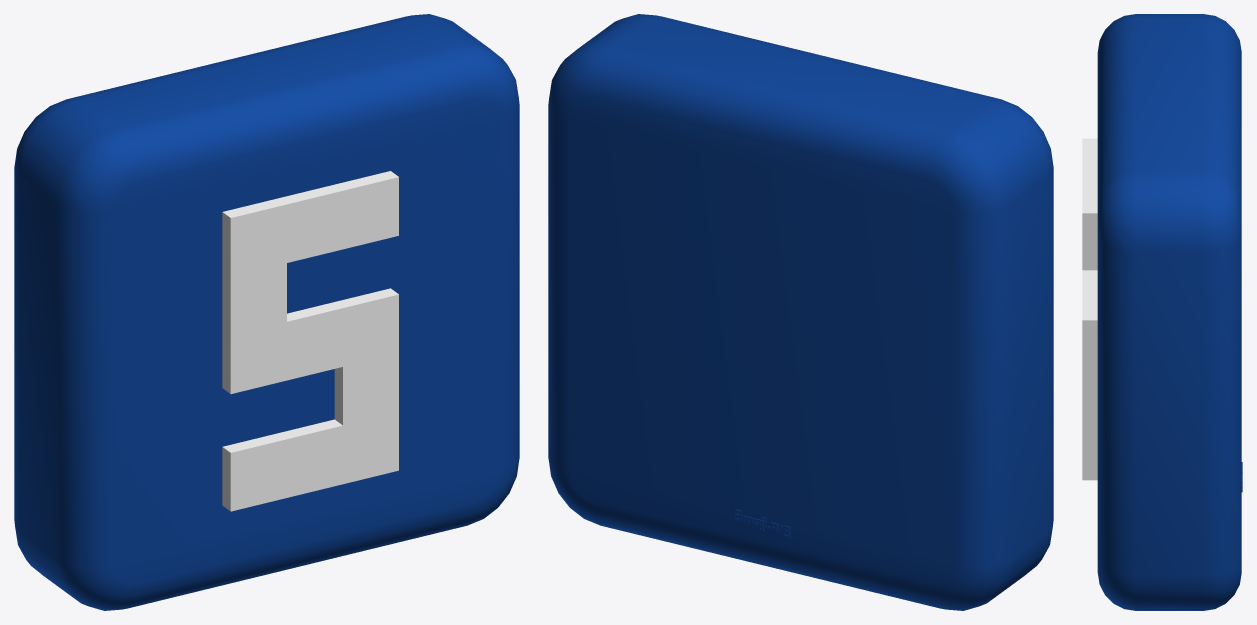
File: keycap_5.glb
3 renders of one model, left to right at view 1: azimuth 30°, elevation 25°; view 2: azimuth 150°, elevation 25°; view 3: azimuth 270°, elevation 25°, orthographic. The views are drawn at different scales.
Visible parts, largest first — view 1: Cube.6583; view 2: Cube.6583; view 3: Cube.6583.
Part boxes in pixels (x1,y1,x2,y2): Cube.6583: (14,14,519,610); Cube.6583: (548,14,1053,610); Cube.6583: (1082,14,1242,610).
Size of the model in its own units: 2.2 by 2.2 by 0.7337.
1 material, 1 textured.
